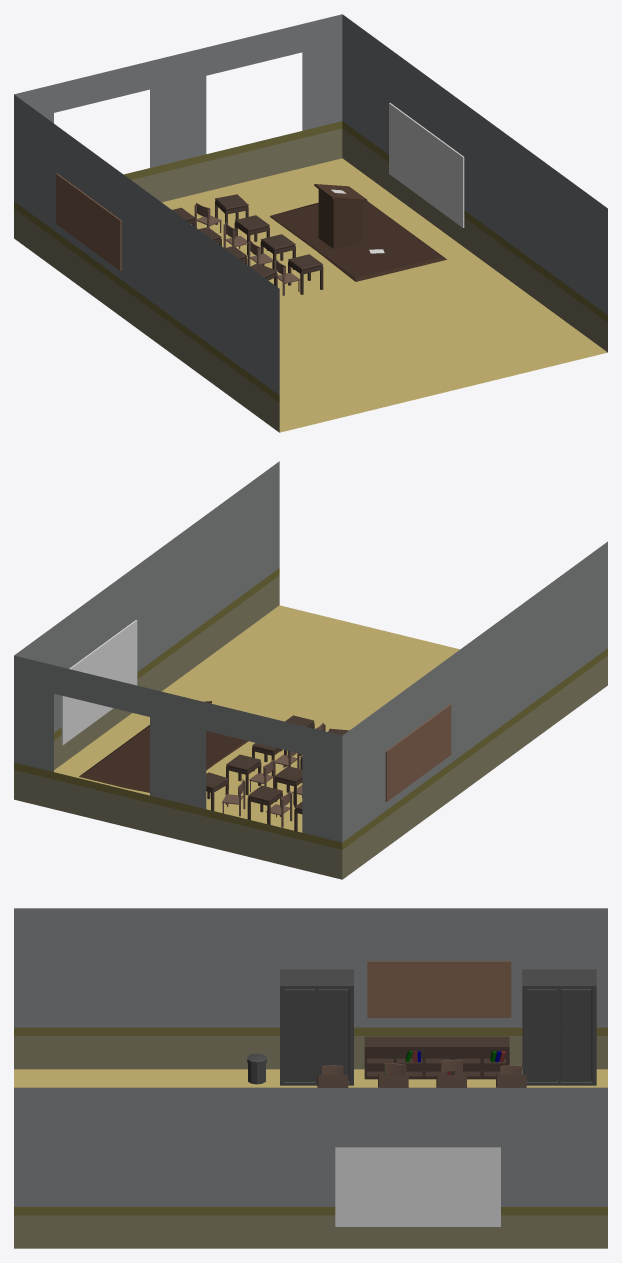
File: sinif.fbx
3 views of the same model, one above another, from view 1: azimuth 30°, elevation 25°; view 2: azimuth 150°, elevation 25°; view 3: azimuth 270°, elevation 25° (orthographic). The views are drawn at different scales.
Visible parts, largest first — view 1: pCube612, pCube625, pCube645, pCube630, pCube652, pCube653, pCube670; view 2: pCube612, pCube645, pCube652, pCube625, pCube630, pCube670; view 3: pCube612, pCube645, pCube650, pCube652, pCube651, pCube646, pCube630, pCube670.
Boxes of the visible parts, x1=… form: pCube612: x1=14, y1=14, x2=607, y2=432; pCube625: x1=270, y1=201, x2=446, y2=281; pCube645: x1=389, y1=103, x2=464, y2=227; pCube630: x1=172, y1=194, x2=323, y2=294; pCube652: x1=56, y1=173, x2=121, y2=270; pCube653: x1=314, y1=184, x2=367, y2=248; pCube670: x1=194, y1=203, x2=300, y2=295; pCube612: x1=14, y1=461, x2=607, y2=879; pCube645: x1=61, y1=620, x2=137, y2=745; pCube652: x1=385, y1=704, x2=451, y2=801; pCube625: x1=79, y1=725, x2=248, y2=792; pCube630: x1=206, y1=715, x2=349, y2=831; pCube670: x1=222, y1=722, x2=325, y2=827; pCube612: x1=14, y1=908, x2=607, y2=1248; pCube645: x1=335, y1=1147, x2=500, y2=1226; pCube650: x1=522, y1=969, x2=596, y2=1085; pCube652: x1=367, y1=961, x2=511, y2=1017; pCube651: x1=280, y1=969, x2=353, y2=1085; pCube646: x1=364, y1=1036, x2=509, y2=1079; pCube630: x1=317, y1=1075, x2=526, y2=1087; pCube670: x1=322, y1=1060, x2=521, y2=1074.
Size of the model in its own units: 225 by 102 by 313.
